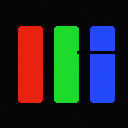3 line_h: (77, 51, 115, 53)
